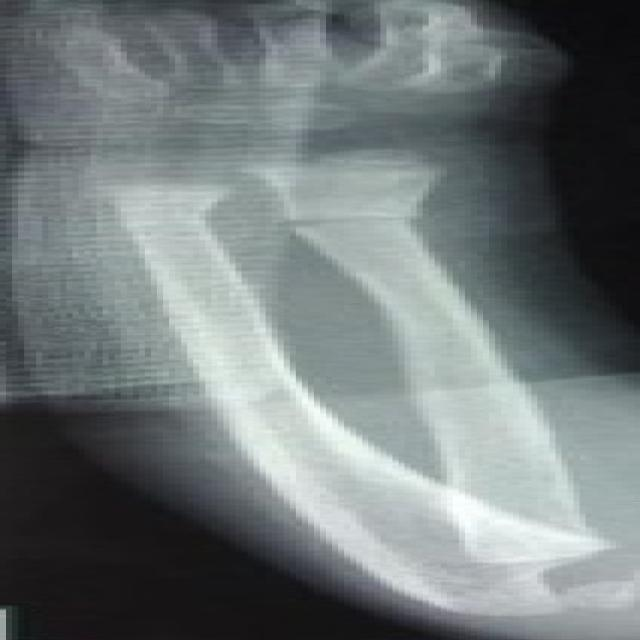Greenstick: (136, 72, 523, 261)
